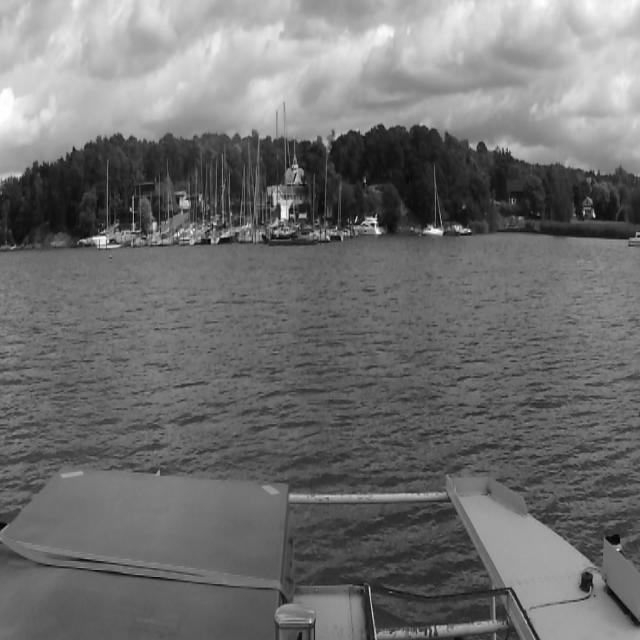ship: (271, 102, 297, 238), (150, 159, 178, 245), (96, 157, 122, 249), (422, 165, 446, 238), (214, 154, 232, 242), (250, 134, 264, 242), (178, 164, 196, 246), (312, 172, 332, 242), (128, 184, 146, 246), (200, 154, 212, 244), (331, 180, 345, 241), (237, 163, 247, 241), (353, 213, 381, 235), (166, 158, 173, 245), (452, 225, 472, 235)
